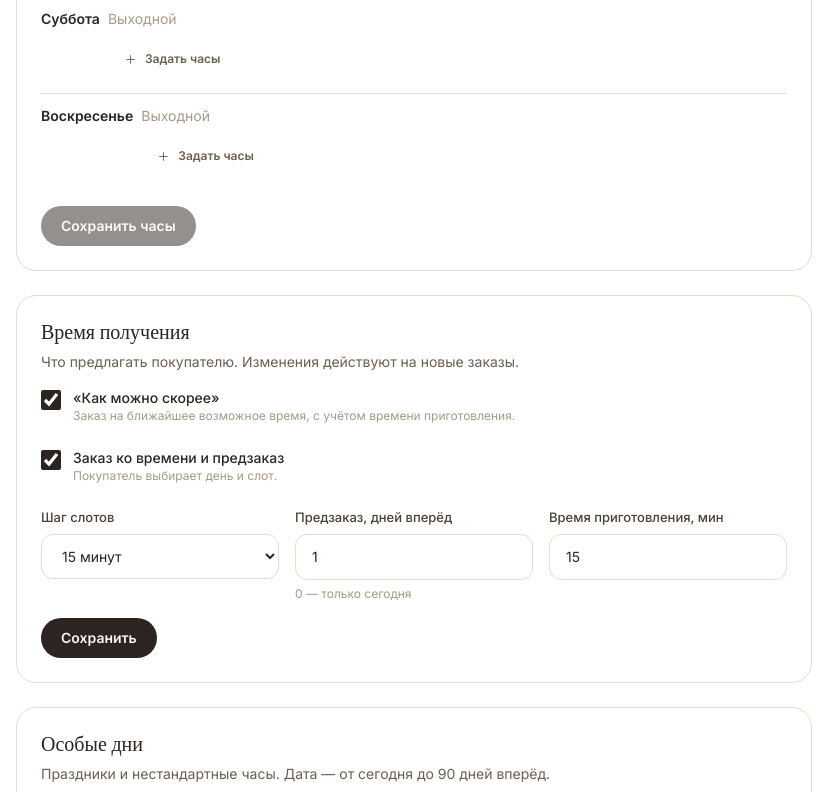
Test case: HoursPage › refuses to save pick-up settings with both ways switched off
The width and height of the screenshot is (829, 792).
(page scrolled)
Expected: the heading "Время получения" is shown, [41, 324, 190, 344]
Click the checkbox labelled "Как можно скорее" at (51, 400), box [41, 390, 61, 410]
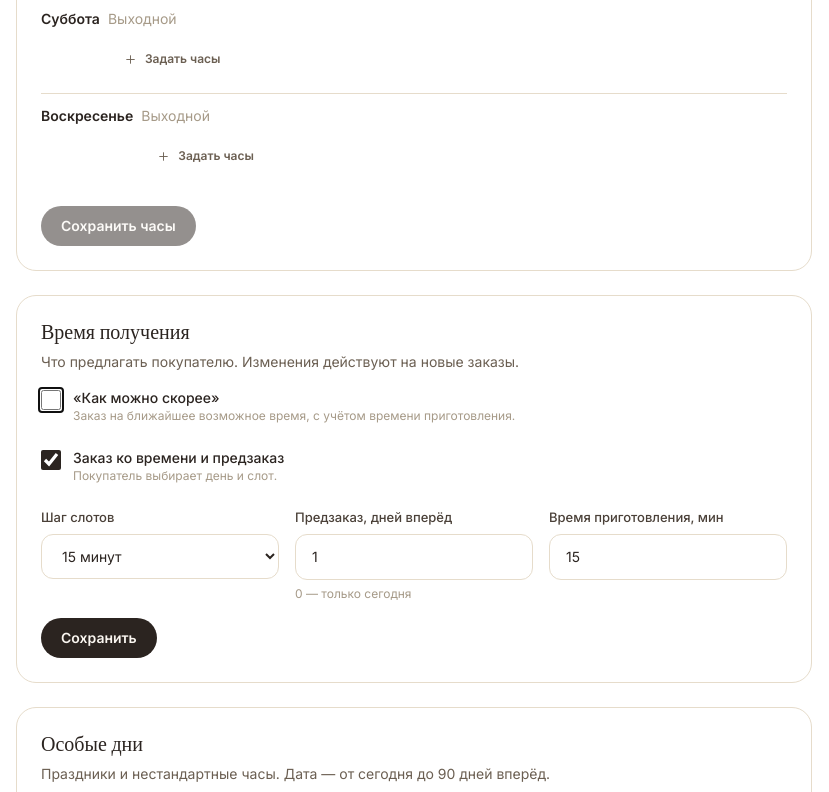
Click the checkbox labelled "Заказ ко времени и предзаказ" at (51, 460), box [41, 450, 61, 470]
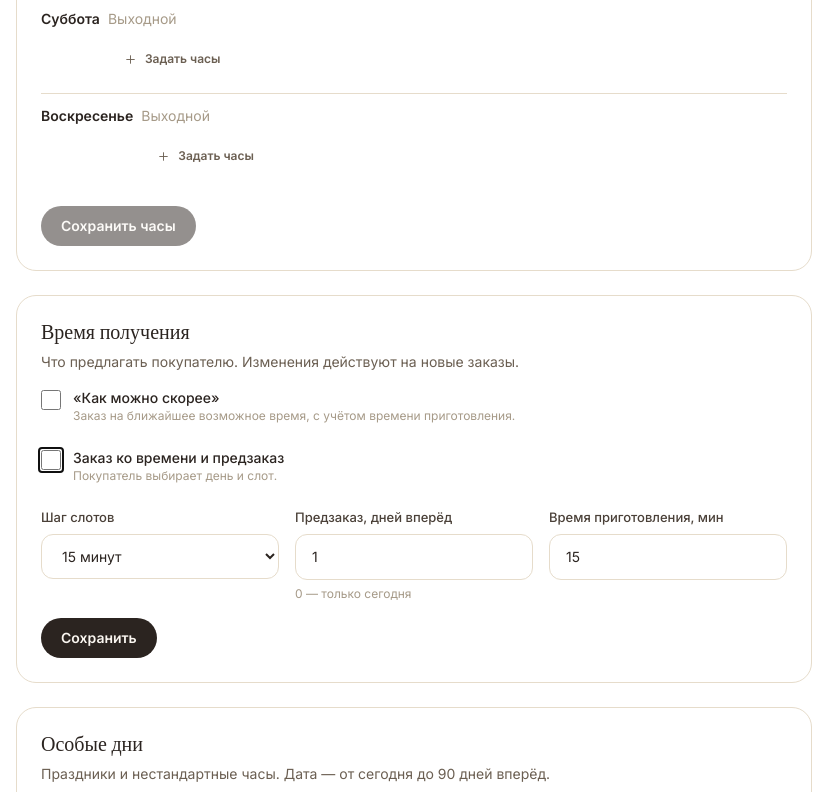
Click the button "Сохранить" at (99, 638), box [41, 618, 157, 658]
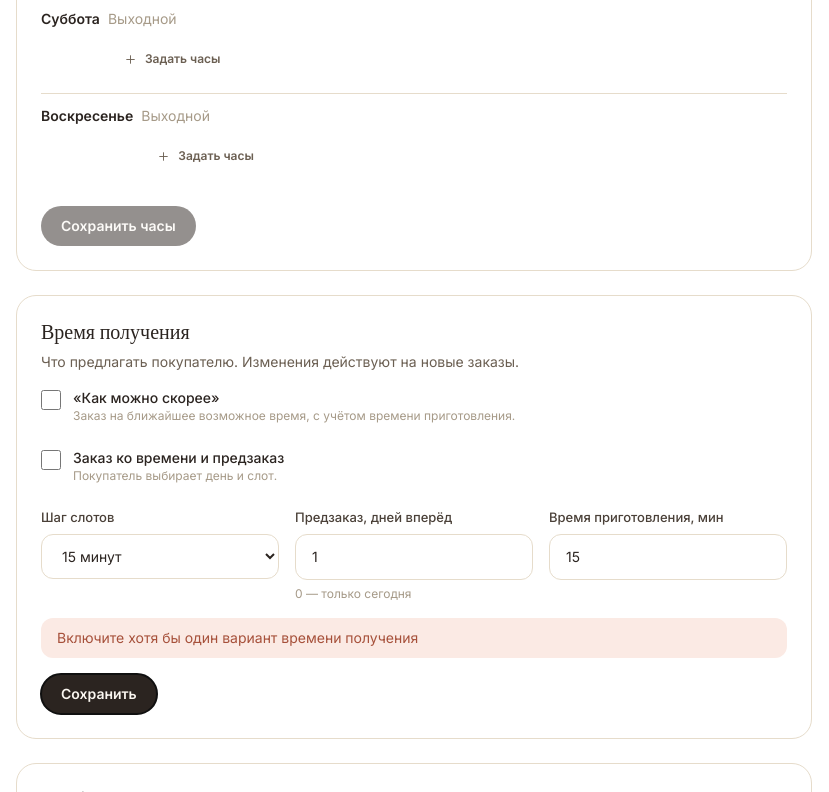
Expected: the text "Включите хотя бы один вариант времени получения" is shown, [41, 618, 787, 658]
